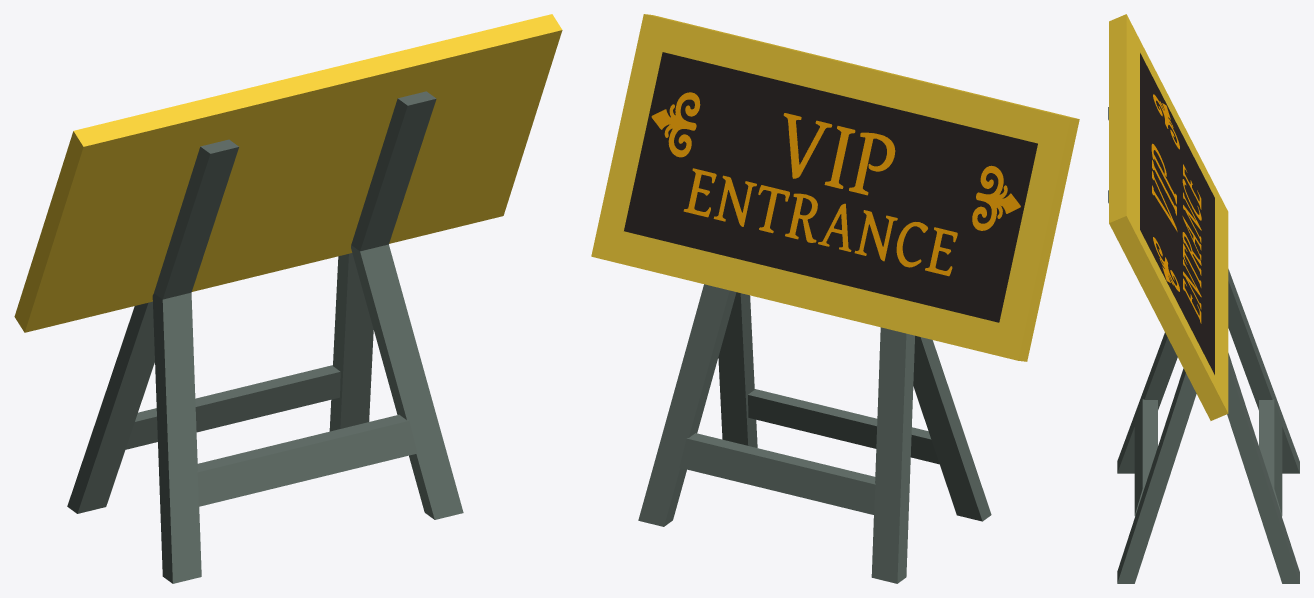
File: VIP_Entrance_geo.fbx
The picture shows the model from 3 angles, left to right: view 1: azimuth 30°, elevation 25°; view 2: azimuth 150°, elevation 25°; view 3: azimuth 270°, elevation 25°; orthographic projection. The views are drawn at different scales.
Parts seen in each view (by area): view 1: VIP_Entrance_geo; view 2: VIP_Entrance_geo; view 3: VIP_Entrance_geo.
Boxes of the visible parts, x1,y1,x2,y2 form: VIP_Entrance_geo: (14, 14, 562, 583); VIP_Entrance_geo: (591, 14, 1079, 583); VIP_Entrance_geo: (1108, 14, 1299, 583).
Size of the model in its own units: 1.39 by 0.5571 by 1.31.
